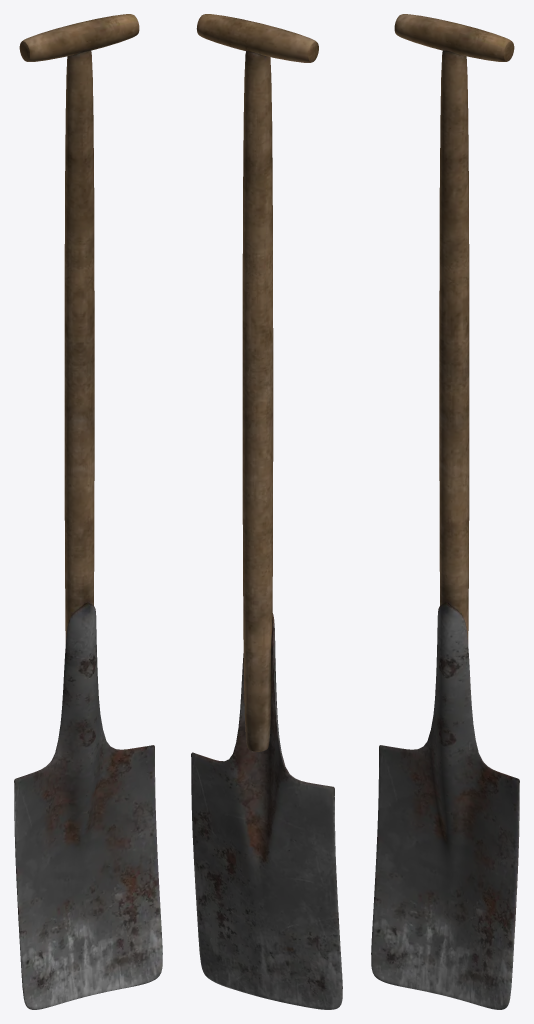
The model's file is rusted_spade_01.3600c792.glb.
3 views of the same model, side by side, from view 1: azimuth 30°, elevation 25°; view 2: azimuth 150°, elevation 25°; view 3: azimuth 330°, elevation 25° (orthographic). The views are drawn at different scales.
Parts seen in each view (by area): view 1: rusted_spade_01; view 2: rusted_spade_01; view 3: rusted_spade_01.
Boxes of the visible parts, <box> form: rusted_spade_01: <box>14,14,162,1009</box>; rusted_spade_01: <box>191,14,342,1009</box>; rusted_spade_01: <box>371,14,519,1009</box>.
Size of the model in its own units: 0.1527 by 1 by 0.0414.
Materials: 1 (1 with a texture image).
